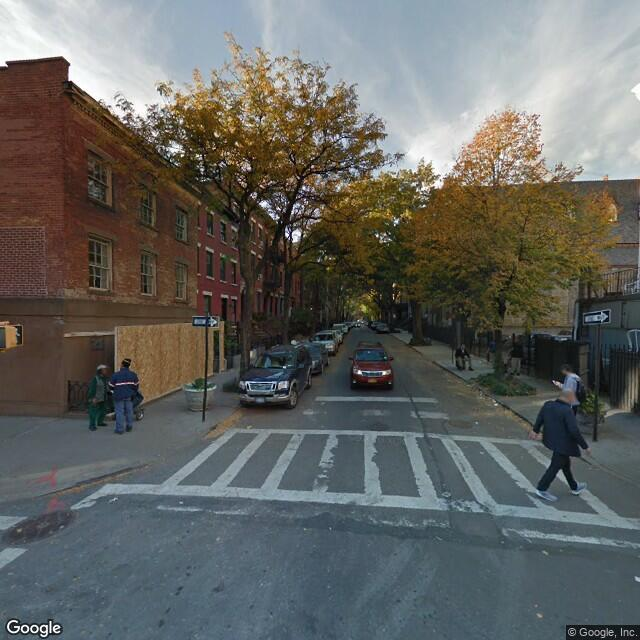litter: (488, 398, 502, 412)
